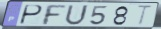5: (89, 5, 109, 26)
8: (113, 6, 129, 26)
F: (42, 4, 68, 26)
P: (18, 5, 44, 26)
T: (136, 5, 154, 27)
U: (63, 4, 90, 27)
